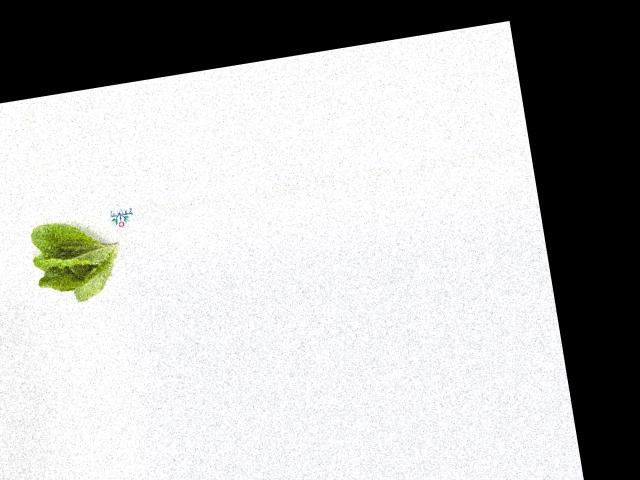lettuce: (25, 215, 127, 310)
